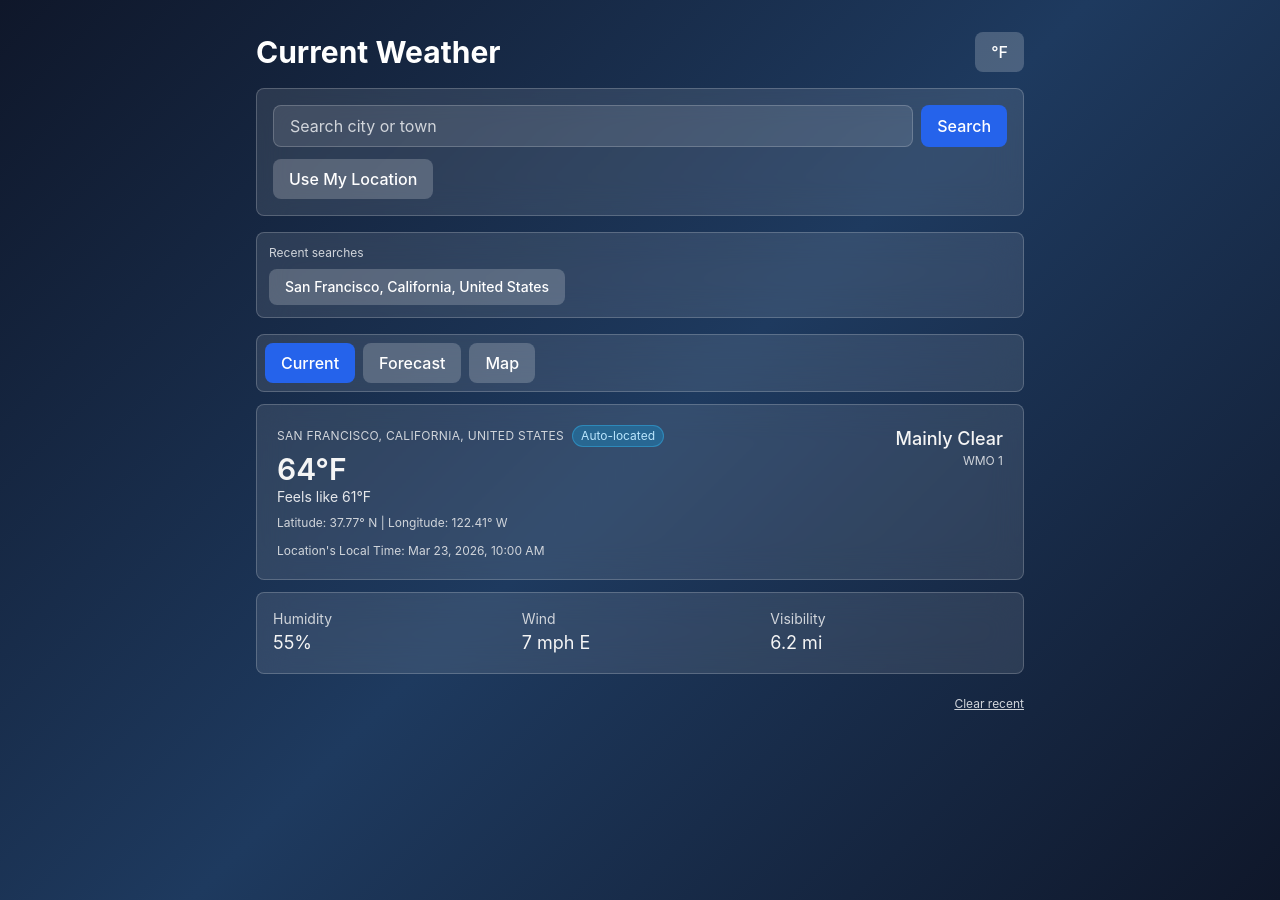
it: User control after auto-detect › preserves a manual search after auto-detect completes
This screenshot has width=1280, height=900.
Expected: the text "Auto-located" is shown, [572,425,664,447]
Expected: the element named "current weather" shows "San Francisco, California, United States", [277,428,564,443]
Step 1. Type "New York" into the field named "location search" → (593, 126), box [273,105,913,147]
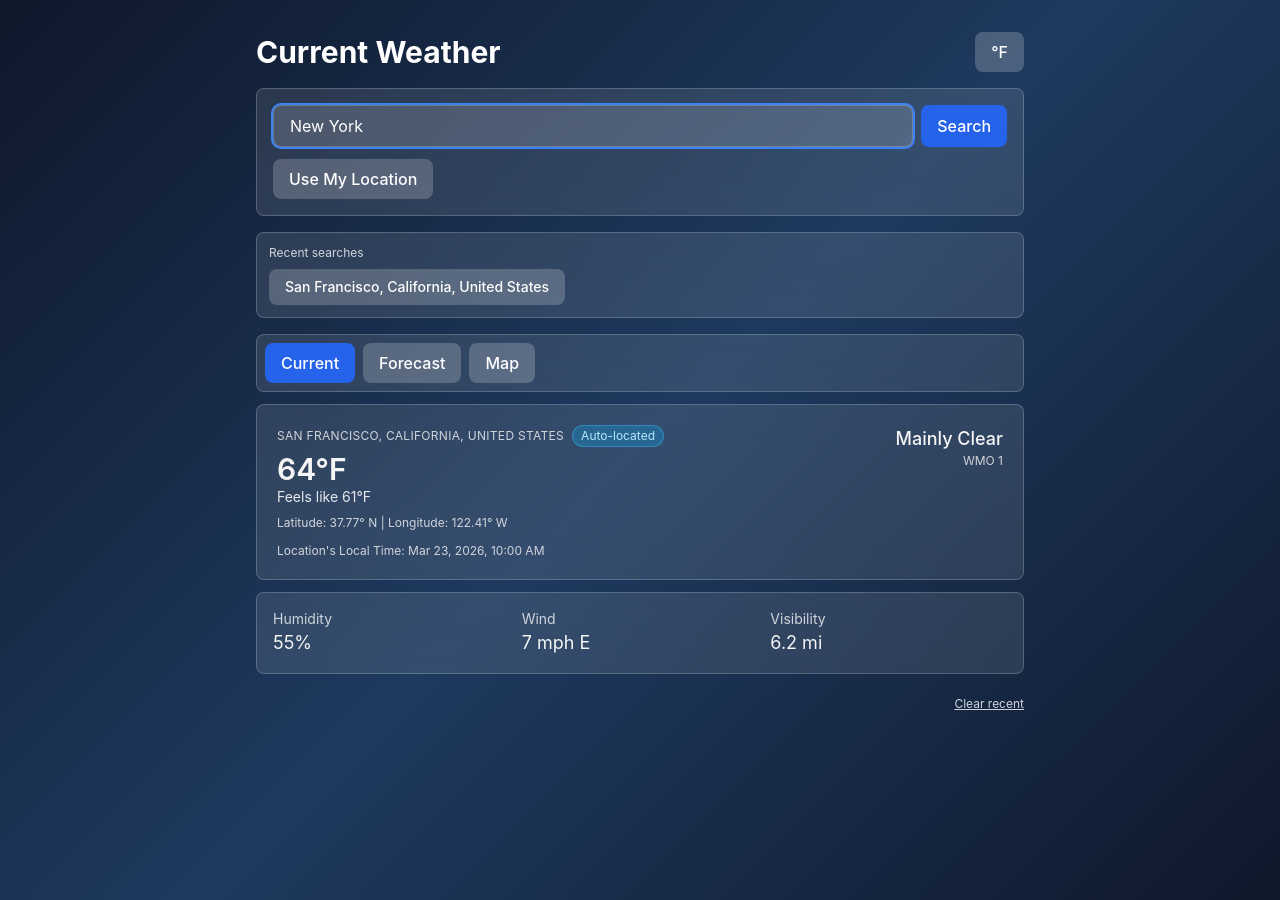
Step 2. Click the button "Search" → click(964, 126), box [921,105,1007,147]
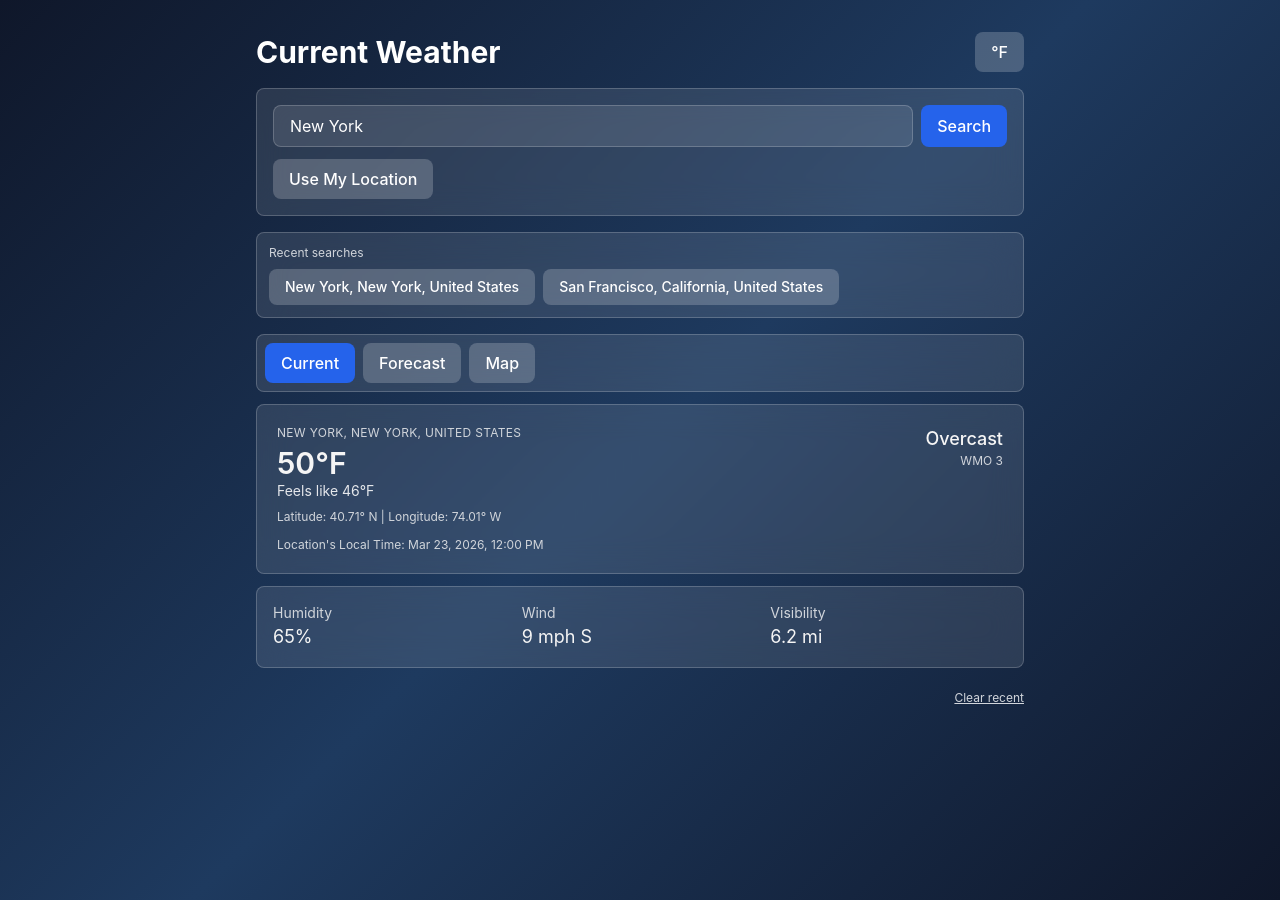
Expected: the element named "current weather" shows "New York, New York, United States", [277,425,521,440]
Expected: the text "Auto-located" is gone
